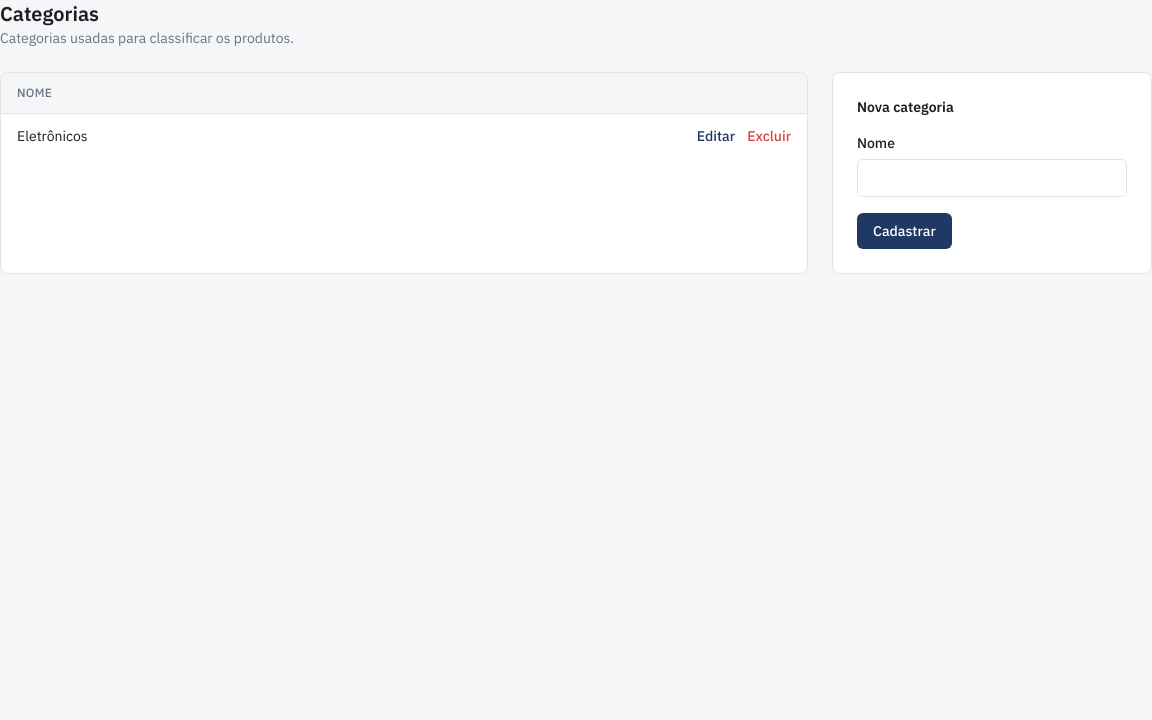
Test: CategoriasPage › mostra o erro da API ao excluir uma categoria com produtos associados
Click the button "Excluir": (769, 136) [747, 126, 791, 146]
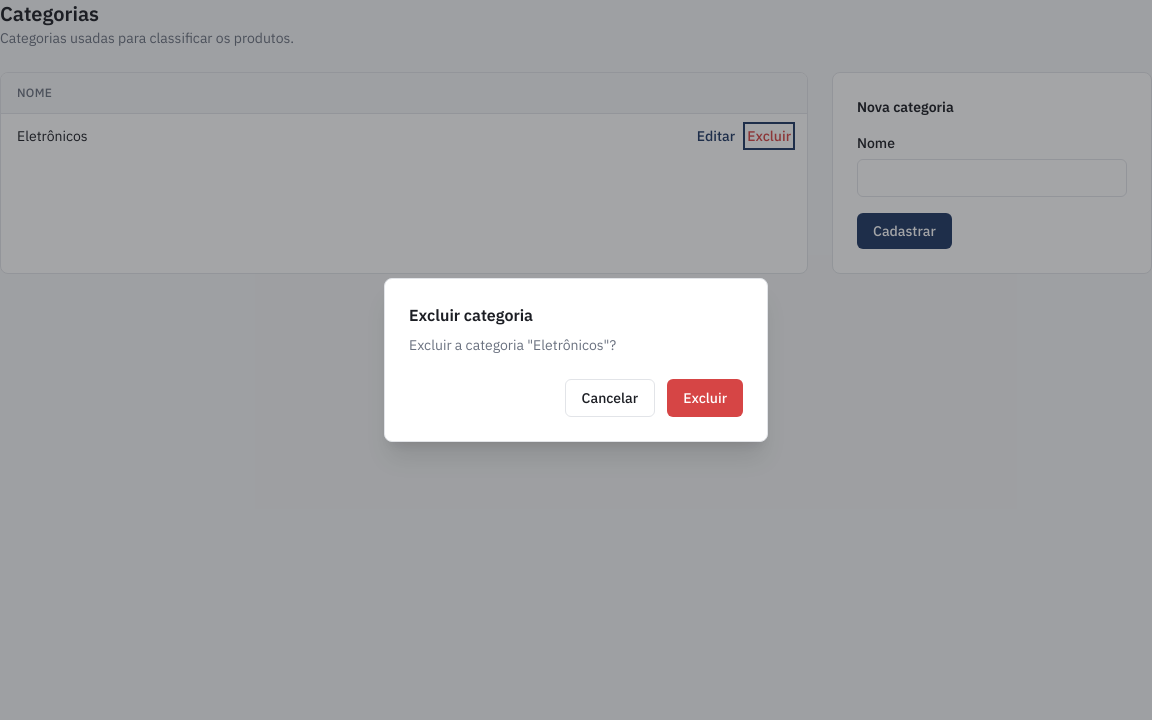
Click the button "Excluir": (705, 398) [667, 379, 743, 417]
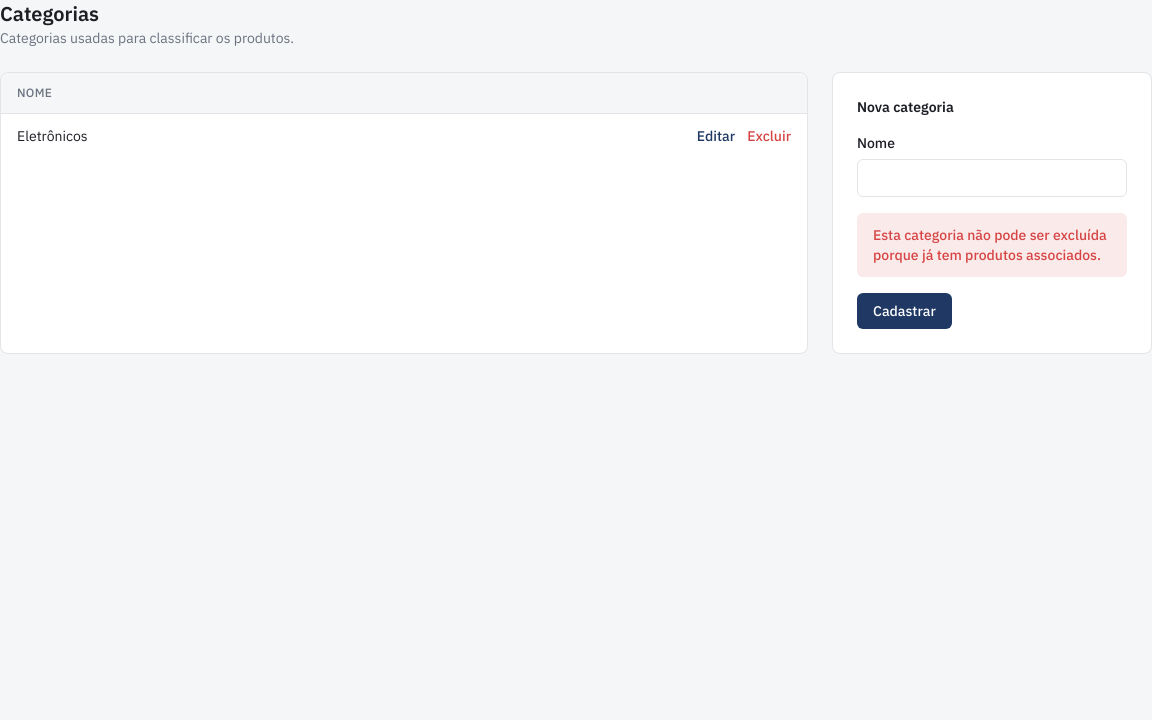
Now the text "Esta categoria não pode ser excluída porque já tem produtos associados." is shown, box [857, 213, 1127, 277]
